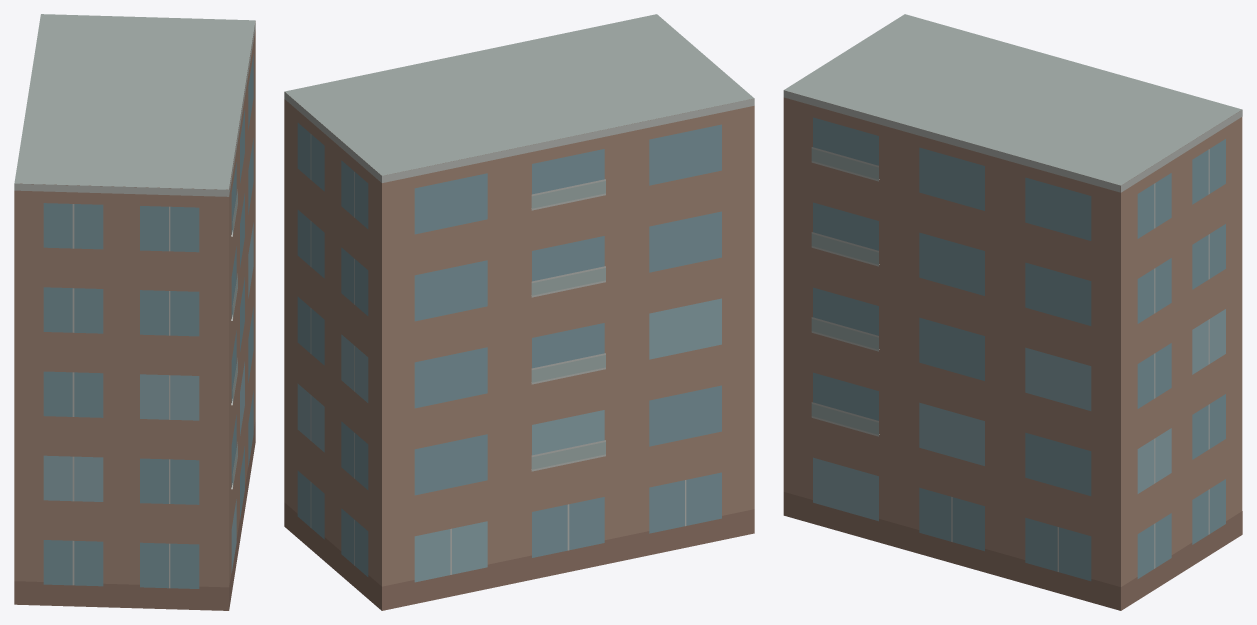
The model's file is survey-upis-32717876.glb.
3 views of the same model, side by side, from view 1: azimuth 30°, elevation 25°; view 2: azimuth 150°, elevation 25°; view 3: azimuth 270°, elevation 25° (orthographic). The views are drawn at different scales.
Parts seen in each view (by area): view 1: survey-upis-32717876.tmp; view 2: survey-upis-32717876.tmp; view 3: survey-upis-32717876.tmp.
Part boxes in pixels (x1,y1,x2,y2): survey-upis-32717876.tmp: [14, 14, 255, 610]; survey-upis-32717876.tmp: [284, 14, 754, 610]; survey-upis-32717876.tmp: [783, 14, 1242, 610].
Size of the model in its own units: 12.56 by 14.5 by 14.18.
